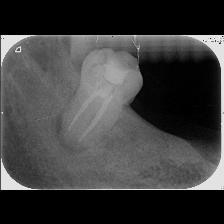apical_lesion: (36, 49, 144, 176)
